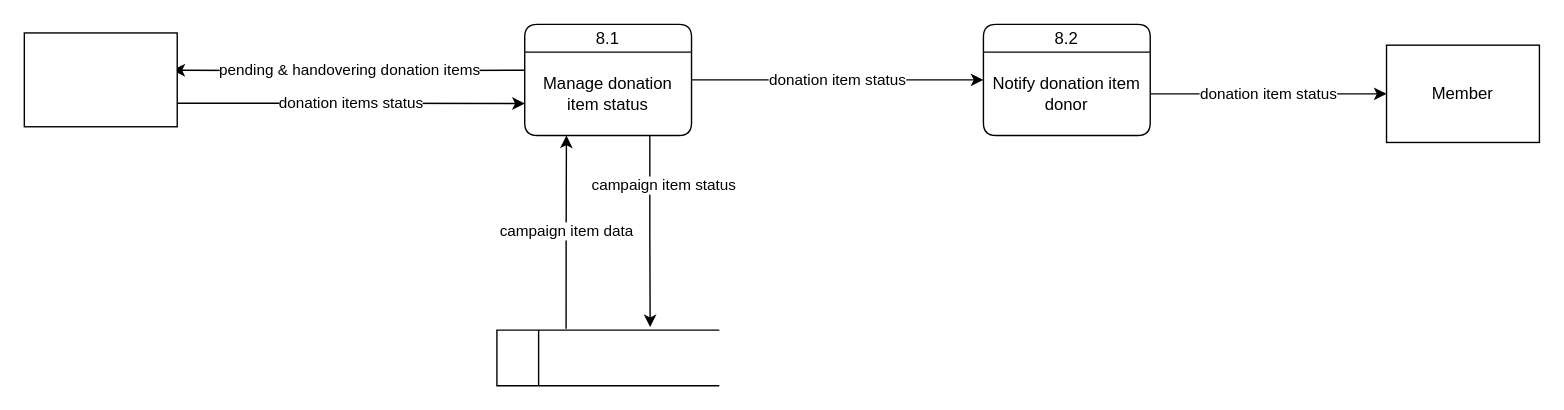
Image size: 1564x410. Some labels were removed from this diagram. Here are the shapes that lost their labels. From the top down, the centre of each, then its label:
At [100,79]: "Organization Admin".
At [607,357]: "Campaign Item".
